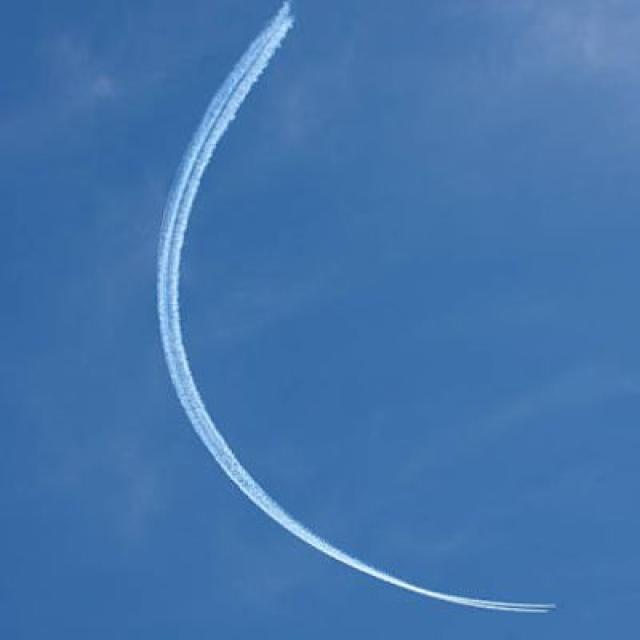Ct: (141, 8, 560, 636)
